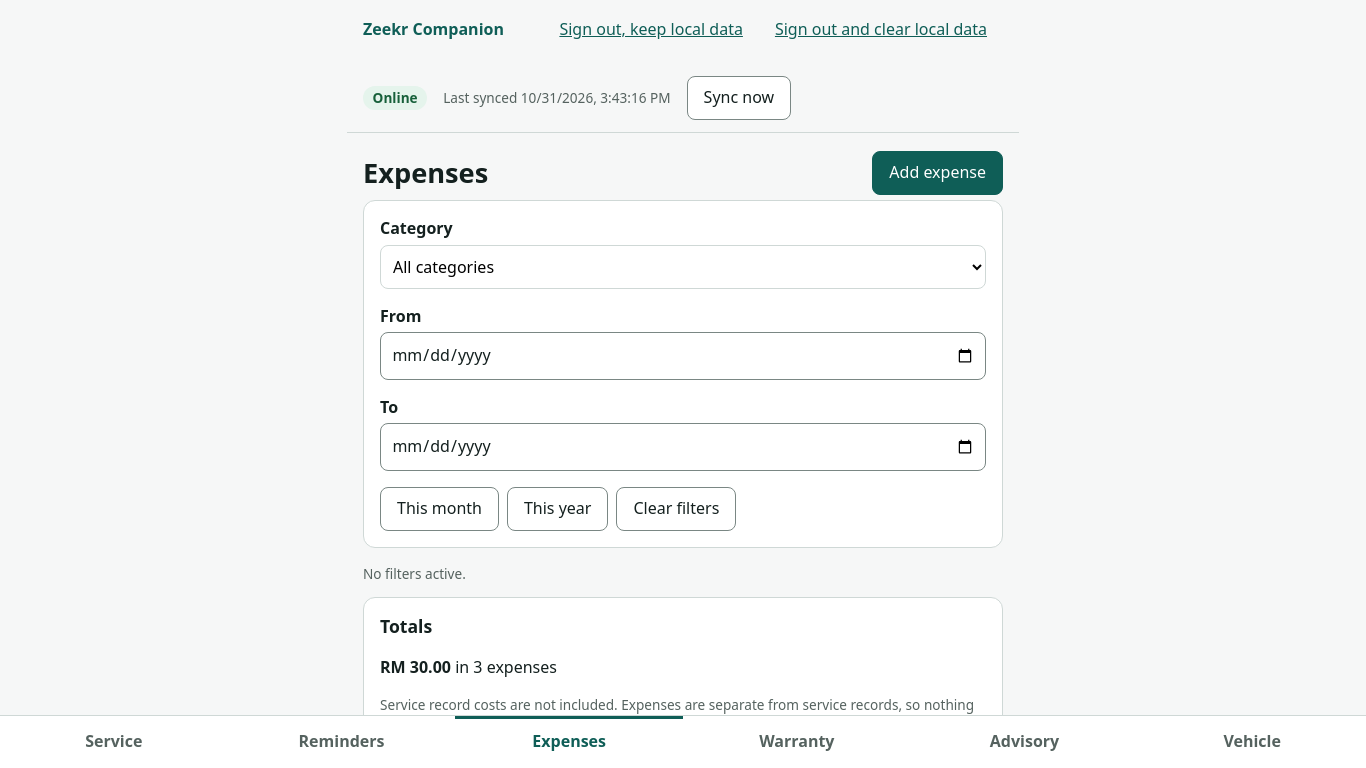
it: AC-36: filters › combines category and range with AND and Clear filters resets them
Select "Tolls" in the dropdown labelled "Category" at (683, 267), box [380,245,986,289]
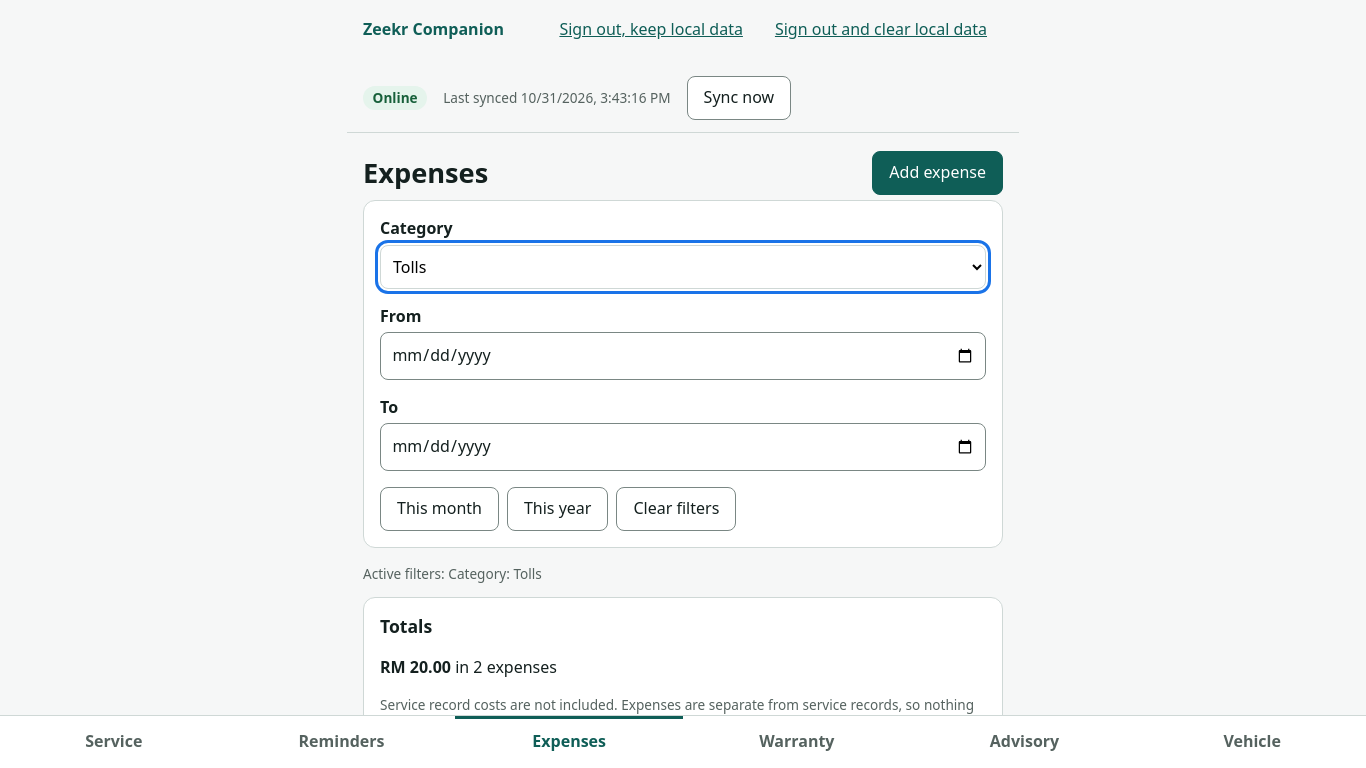
Type "2026-06-01" into the date field labelled "From" at (683, 356), box [380,332,986,380]
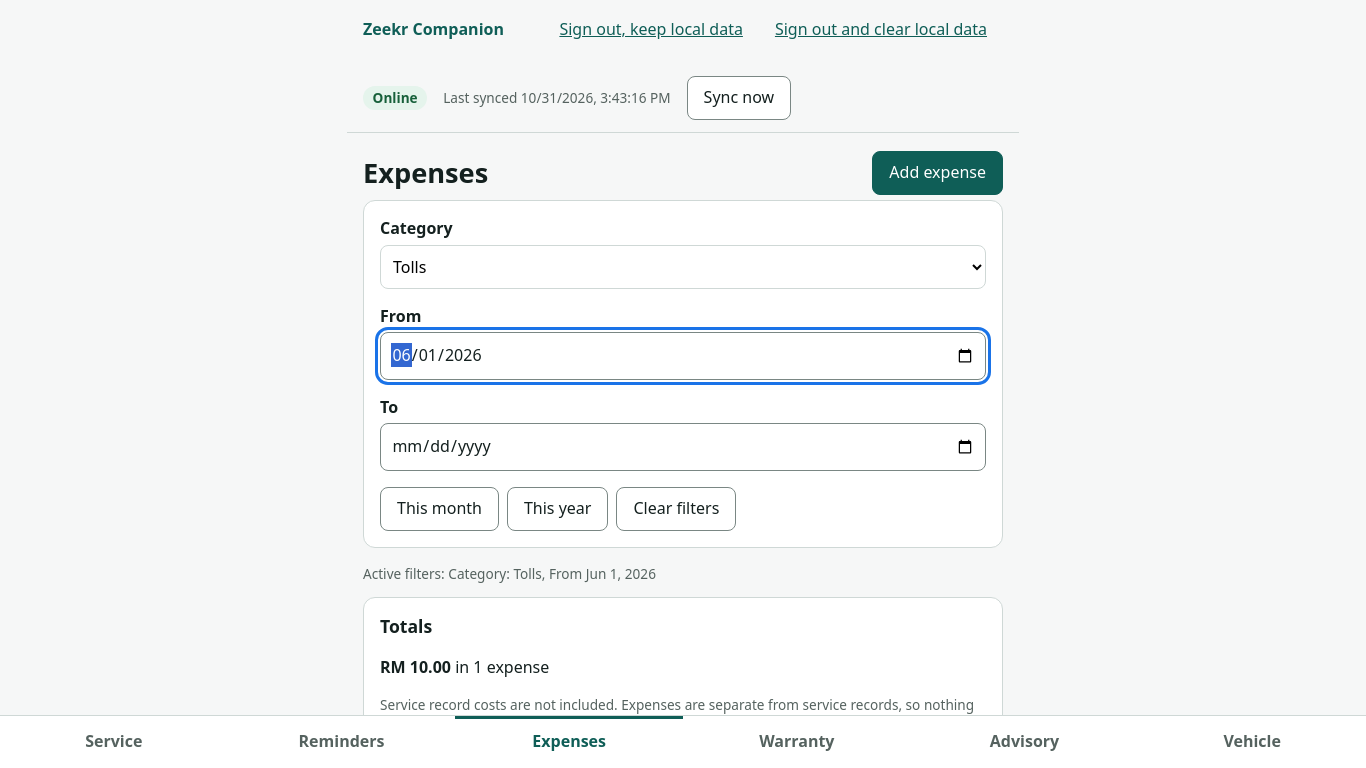
Click the button "Clear filters" at (676, 509), box [616,487,736,531]
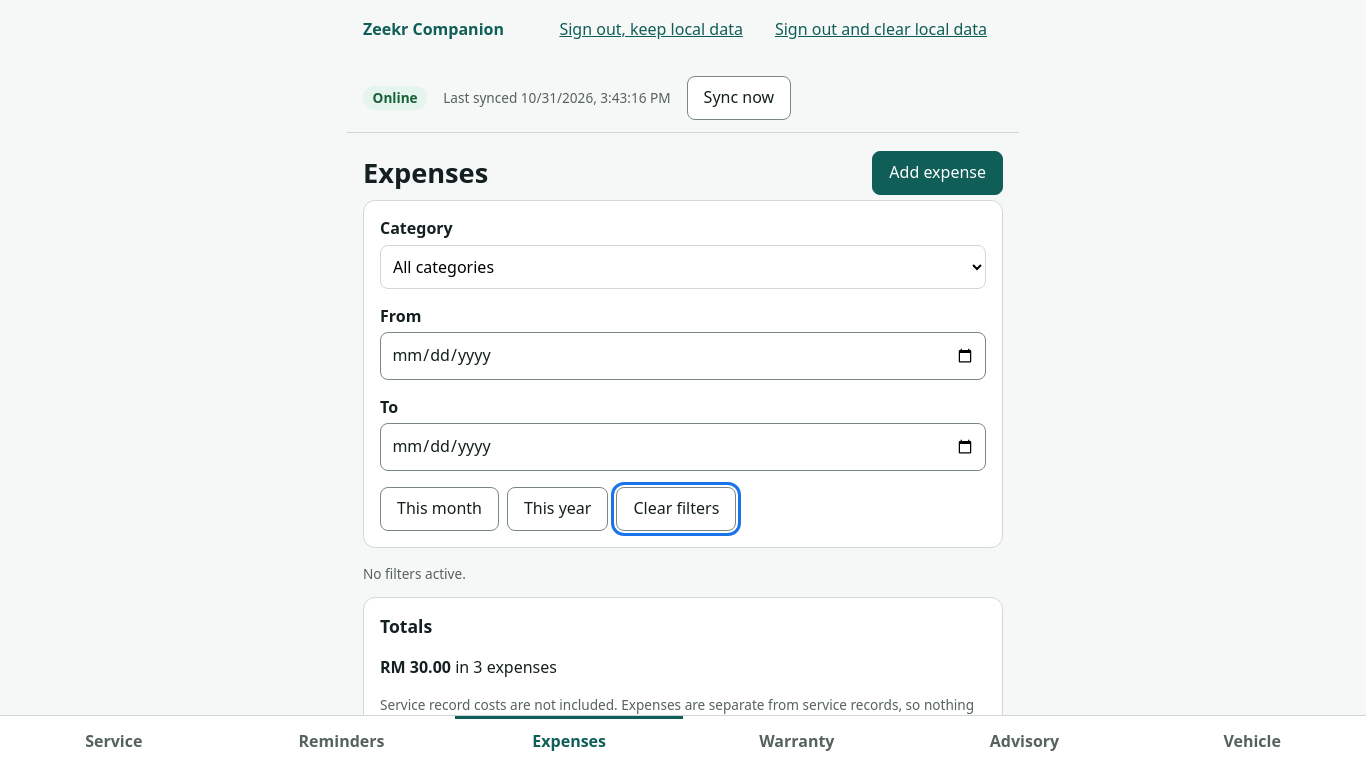
expect the text with test id "active-filters" reads "No filters active.": met, box [363,564,466,583]
